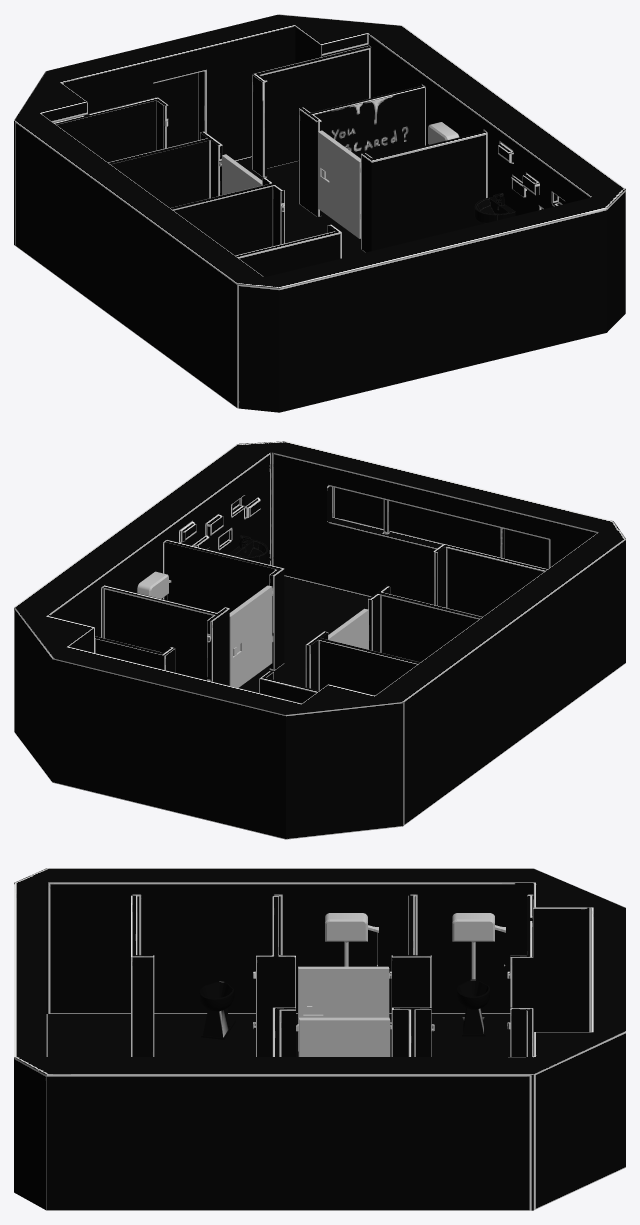
The model's file is textured_level2.FBX.
3 views of the same model, one above another, from view 1: azimuth 30°, elevation 25°; view 2: azimuth 150°, elevation 25°; view 3: azimuth 270°, elevation 25° (orthographic). The views are drawn at different scales.
Parts seen in each view (by area): view 1: level, door1, door2, sink; view 2: level, door1, door2, sink2, toiletcopy2; view 3: level, door2, door1, toilet, brokentoiletcopy, toiletcopy.
Boxes of the visible parts, <box> form: level: <box>14,14,625,412</box>; door1: <box>318,130,360,238</box>; door2: <box>222,154,262,195</box>; sink: <box>474,193,515,223</box>; level: <box>14,441,625,839</box>; door1: <box>229,585,272,687</box>; door2: <box>328,608,368,649</box>; sink2: <box>228,535,268,563</box>; toiletcopy2: <box>137,571,171,600</box>; level: <box>14,868,625,1210</box>; door2: <box>298,966,389,1051</box>; door1: <box>298,1017,390,1056</box>; toilet: <box>452,913,505,1036</box>; brokentoiletcopy: <box>199,981,235,1039</box>; toiletcopy: <box>325,913,378,966</box>.
Bounding box in the file's own units: 6892 × 2108 × 8621.
